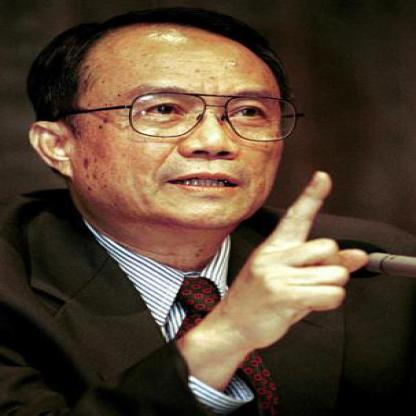face: (67, 20, 306, 233)
